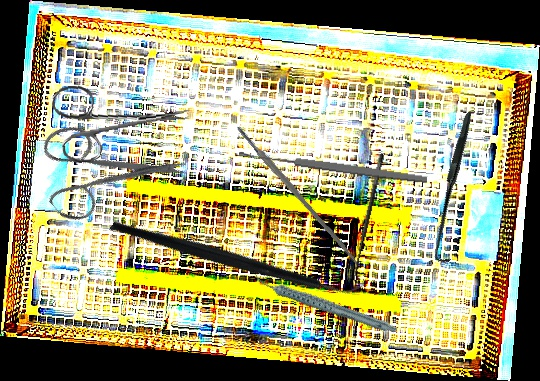Chopper: (109, 142, 366, 370)
Handpiece: (252, 245, 399, 361)
Hook Surgical: (377, 110, 536, 267), (347, 153, 395, 286)
Iris Scissors: (16, 79, 192, 255), (50, 74, 195, 165)
Scalpel Handle: (233, 122, 363, 268)
Surgical Spoon: (238, 147, 428, 186)
